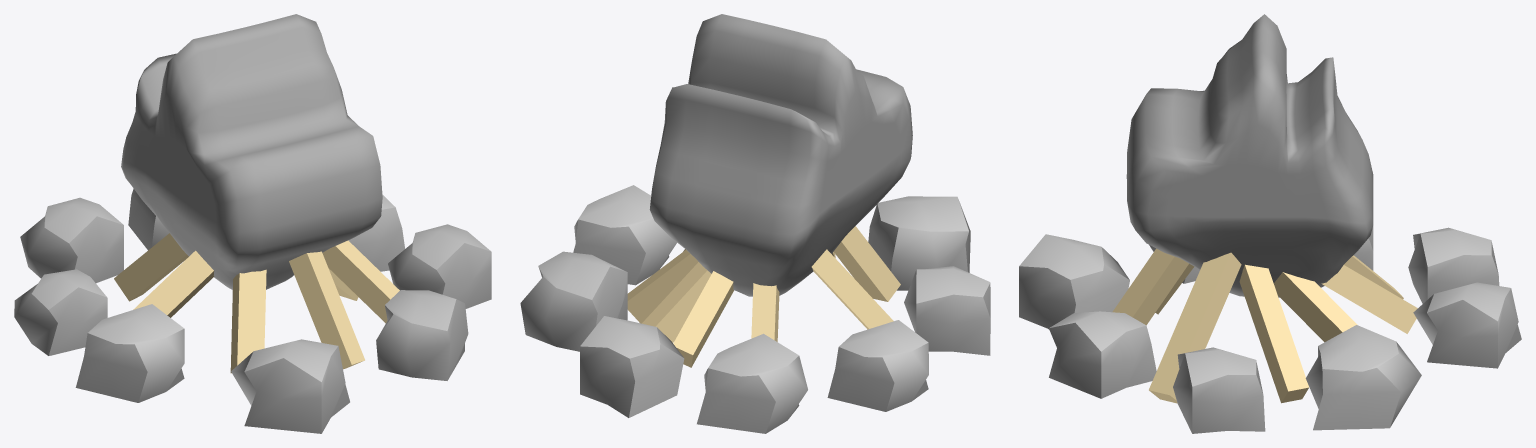
The model's file is campingV2.fbx.
3 views of the same model, side by side, from view 1: azimuth 30°, elevation 25°; view 2: azimuth 150°, elevation 25°; view 3: azimuth 270°, elevation 25° (orthographic).
Visible parts, largest first — view 1: pCube129, pCube3, pCube4, pCube2, pCube6, pCube10, pCube5, pCube122, pCube9, pCube123, pCube12, pCube11 (+2 smaller); view 2: pCube129, pCube6, pCube8, pCube7, pCube3, pCube5, pCube4, pCube10, pCube9, pCube128, pCube125, pCube126 (+3 smaller); view 3: pCube129, pCube7, pCube3, pCube2, pCube8, pCube10, pCube6, pCube123, pCube124, pCube122, pCube126, pCube120 (+3 smaller).
Boxes of the visible parts, x1=… form: pCube129: x1=121, y1=14, x2=382, y2=289; pCube3: x1=231, y1=339, x2=349, y2=433; pCube4: x1=75, y1=304, x2=184, y2=402; pCube2: x1=376, y1=290, x2=468, y2=380; pCube6: x1=20, y1=197, x2=123, y2=283; pCube10: x1=388, y1=224, x2=491, y2=308; pCube5: x1=14, y1=269, x2=107, y2=355; pCube122: x1=289, y1=251, x2=364, y2=369; pCube9: x1=230, y1=269, x2=266, y2=373; pCube123: x1=322, y1=240, x2=399, y2=323; pCube12: x1=114, y1=233, x2=188, y2=301; pCube11: x1=133, y1=250, x2=214, y2=317; pCube129: x1=649, y1=14, x2=912, y2=296; pCube6: x1=697, y1=333, x2=807, y2=433; pCube8: x1=580, y1=316, x2=684, y2=417; pCube7: x1=520, y1=251, x2=627, y2=351; pCube3: x1=868, y1=196, x2=970, y2=290; pCube5: x1=827, y1=320, x2=928, y2=411; pCube4: x1=904, y1=266, x2=990, y2=355; pCube10: x1=573, y1=185, x2=676, y2=285; pCube9: x1=833, y1=226, x2=900, y2=301; pCube128: x1=811, y1=249, x2=893, y2=329; pCube125: x1=642, y1=262, x2=711, y2=342; pCube126: x1=673, y1=271, x2=733, y2=367; pCube129: x1=1126, y1=14, x2=1373, y2=297; pCube7: x1=1305, y1=325, x2=1421, y2=430; pCube3: x1=1019, y1=234, x2=1129, y2=329; pCube2: x1=1049, y1=311, x2=1156, y2=398; pCube8: x1=1413, y1=282, x2=1521, y2=368; pCube10: x1=1173, y1=347, x2=1265, y2=433; pCube6: x1=1408, y1=227, x2=1499, y2=303; pCube123: x1=1149, y1=252, x2=1241, y2=403; pCube124: x1=1245, y1=264, x2=1309, y2=402; pCube122: x1=1112, y1=248, x2=1188, y2=325; pCube126: x1=1322, y1=265, x2=1417, y2=333; pCube120: x1=1273, y1=272, x2=1342, y2=342.
Bounding box in the file's own units: 2.63 × 1.91 × 2.84.
